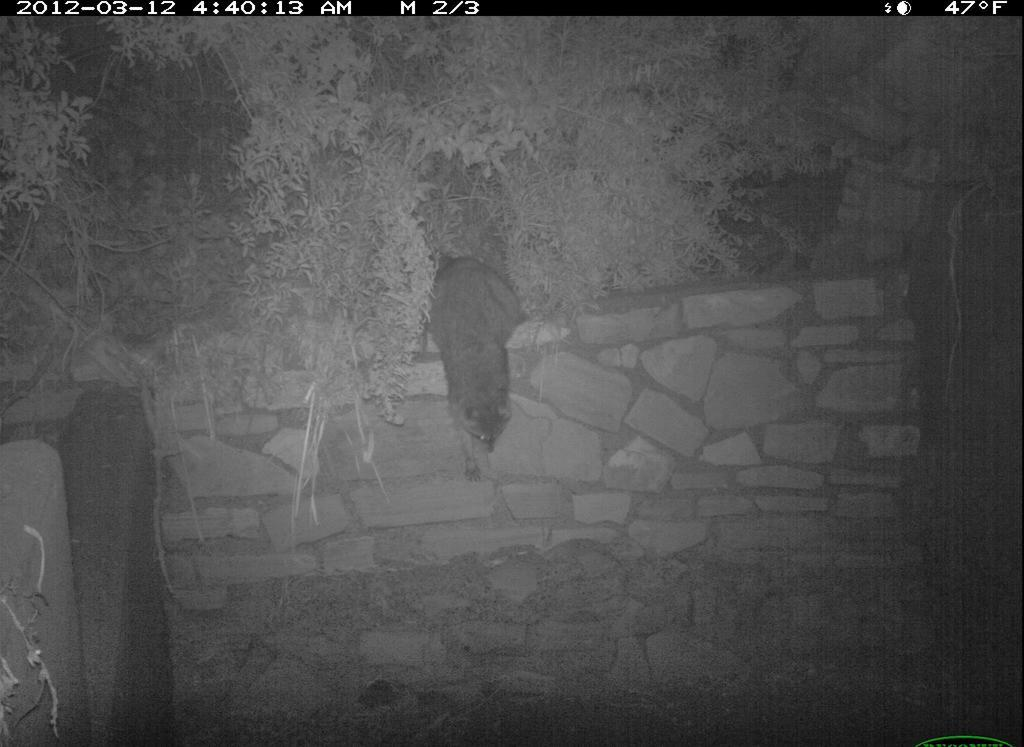raccoon: (429, 251, 541, 482)
